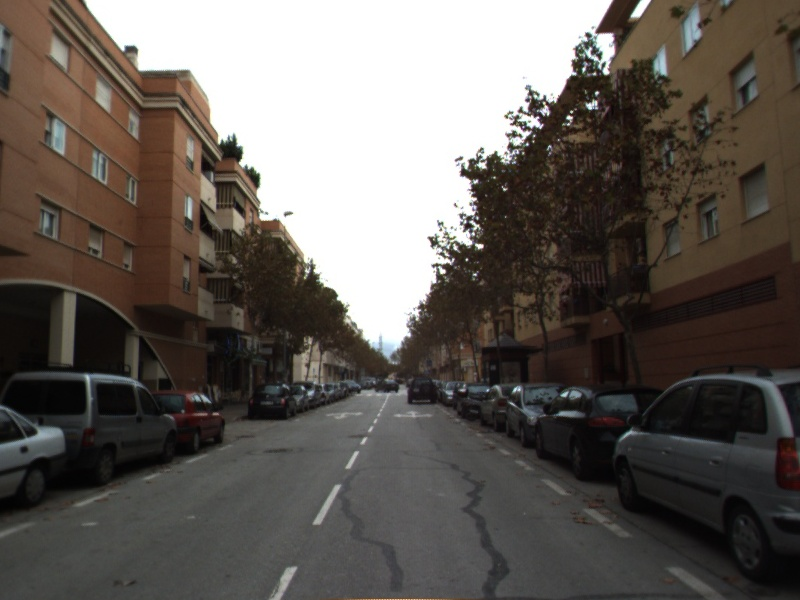STRAIGHT_LEFT_RIGHT: (391, 408, 435, 420)
